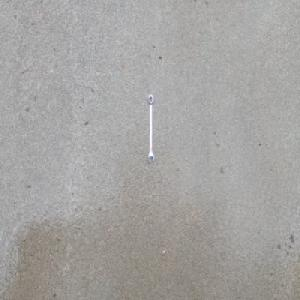Wrench: (147, 93, 155, 163)
